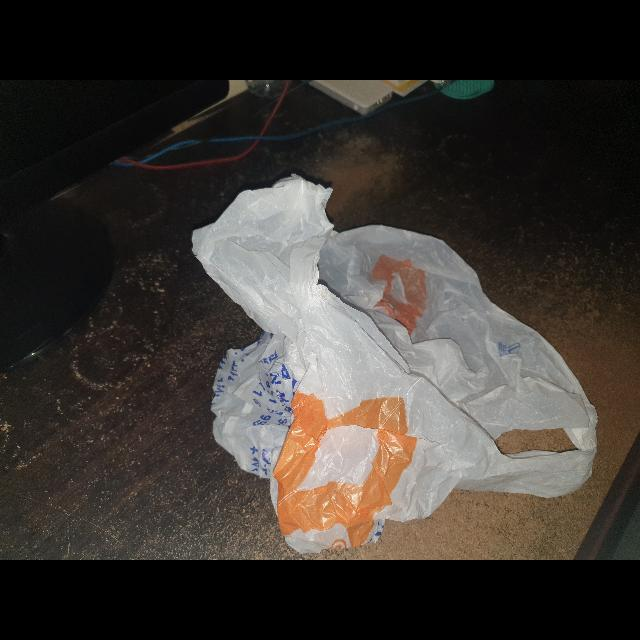plastic_bag: (175, 166, 607, 560)
